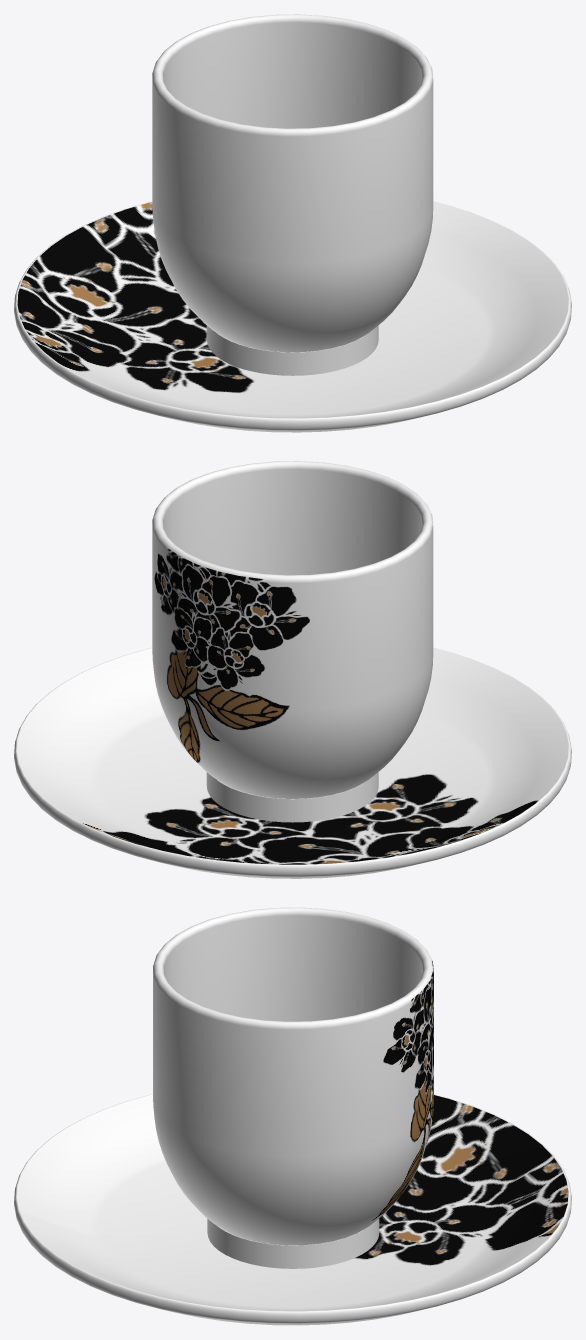
The picture shows the model from 3 angles, top to bottom: view 1: azimuth 30°, elevation 25°; view 2: azimuth 150°, elevation 25°; view 3: azimuth 270°, elevation 25°; orthographic projection.
Parts seen in each view (by area): view 1: mesh2_mesh2-geometry, mesh1_mesh1-geometry, mesh1_mesh1-geometry_1; view 2: mesh2_mesh2-geometry, mesh1_mesh1-geometry, mesh2_mesh2-geometry_1, mesh1_mesh1-geometry_1; view 3: mesh2_mesh2-geometry, mesh1_mesh1-geometry, mesh2_mesh2-geometry_1, mesh1_mesh1-geometry_1.
Boxes of the visible parts, <box> form: mesh2_mesh2-geometry: <box>152,14,433,375</box>; mesh1_mesh1-geometry: <box>17,201,571,432</box>; mesh1_mesh1-geometry_1: <box>14,201,181,415</box>; mesh2_mesh2-geometry: <box>152,461,433,822</box>; mesh1_mesh1-geometry: <box>14,647,571,864</box>; mesh2_mesh2-geometry_1: <box>153,532,310,774</box>; mesh1_mesh1-geometry_1: <box>30,745,571,878</box>; mesh2_mesh2-geometry: <box>153,907,433,1268</box>; mesh1_mesh1-geometry: <box>14,1095,568,1325</box>; mesh2_mesh2-geometry_1: <box>367,961,433,1225</box>; mesh1_mesh1-geometry_1: <box>149,1094,571,1275</box>.
Bounding box in the file's own units: 0.658 × 0.3661 × 0.658.
3 materials, 1 textured.
